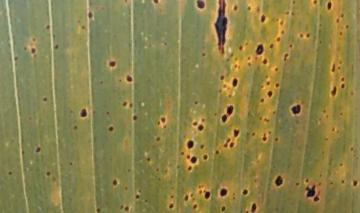tarspot: (214, 1, 228, 56), (305, 184, 315, 196), (290, 105, 301, 115), (256, 43, 264, 54), (275, 176, 283, 187), (223, 138, 231, 148), (250, 202, 257, 213), (196, 1, 205, 9), (182, 193, 189, 203), (226, 105, 233, 114), (233, 128, 240, 137), (331, 86, 337, 96), (283, 52, 289, 62), (221, 114, 228, 122), (125, 75, 132, 83), (108, 61, 116, 68), (220, 189, 227, 197), (87, 11, 94, 19), (331, 62, 336, 73), (327, 1, 332, 11), (190, 156, 197, 163), (107, 125, 114, 132), (34, 146, 41, 153), (81, 110, 87, 118), (187, 140, 193, 148), (112, 178, 118, 186), (198, 123, 204, 131), (266, 89, 272, 97), (53, 42, 59, 50), (262, 117, 270, 123), (119, 203, 125, 211), (261, 14, 266, 23), (262, 133, 267, 142), (204, 193, 211, 199), (242, 189, 248, 196), (313, 195, 319, 202), (159, 116, 166, 122), (45, 23, 51, 30), (246, 4, 252, 11), (339, 12, 346, 18), (224, 56, 231, 62), (256, 6, 262, 13), (349, 145, 355, 152), (337, 162, 344, 168), (337, 110, 344, 116), (232, 78, 237, 86), (189, 192, 194, 200), (340, 75, 345, 83), (350, 89, 355, 97), (262, 59, 268, 65), (274, 82, 280, 88), (330, 126, 336, 132), (259, 83, 265, 89), (321, 108, 327, 114), (221, 205, 226, 212), (220, 74, 225, 81), (31, 47, 36, 54), (187, 165, 192, 172), (30, 37, 37, 42), (125, 206, 130, 213), (132, 114, 137, 120), (233, 4, 238, 10), (168, 203, 174, 208), (199, 143, 204, 149), (230, 142, 235, 148), (42, 96, 47, 102), (72, 124, 78, 129), (269, 43, 274, 49), (340, 83, 346, 88), (353, 180, 358, 186), (251, 132, 257, 137), (246, 62, 252, 67), (305, 33, 311, 38), (304, 178, 310, 183), (198, 189, 203, 195), (272, 109, 277, 115), (329, 180, 334, 186), (152, 1, 159, 5), (194, 203, 198, 210), (46, 169, 50, 176), (299, 31, 303, 38), (122, 101, 127, 106), (201, 52, 206, 57), (203, 155, 208, 160), (156, 137, 161, 142), (276, 37, 281, 42), (265, 80, 270, 85), (222, 83, 227, 88), (227, 93, 232, 98), (105, 111, 110, 116), (180, 151, 185, 156), (186, 154, 191, 159), (96, 208, 101, 213), (201, 118, 206, 123), (317, 182, 322, 187), (264, 74, 269, 79), (312, 1, 318, 5), (129, 102, 133, 108), (192, 121, 198, 125), (239, 45, 243, 51), (7, 171, 13, 175), (22, 46, 28, 50), (275, 137, 279, 143), (281, 29, 285, 35), (285, 11, 291, 15), (345, 23, 349, 29), (341, 178, 345, 184), (98, 80, 104, 84), (339, 30, 343, 36), (244, 209, 250, 213), (117, 78, 123, 82), (135, 195, 140, 199), (215, 150, 219, 155), (81, 25, 85, 30), (247, 55, 251, 60), (289, 43, 293, 48), (163, 42, 168, 46), (290, 11, 294, 16), (295, 182, 300, 186), (336, 18, 340, 23), (291, 1, 296, 5), (234, 64, 238, 69), (125, 186, 129, 191), (156, 168, 160, 173), (144, 198, 148, 203), (163, 123, 167, 128), (337, 65, 341, 70), (232, 196, 236, 201), (280, 20, 283, 26), (123, 1, 129, 4), (147, 156, 150, 162), (14, 56, 18, 60), (69, 161, 73, 165), (218, 89, 222, 93), (170, 195, 174, 199), (230, 53, 234, 57), (138, 189, 142, 193), (193, 101, 198, 104), (261, 98, 264, 103), (275, 67, 278, 72), (214, 113, 217, 116)
